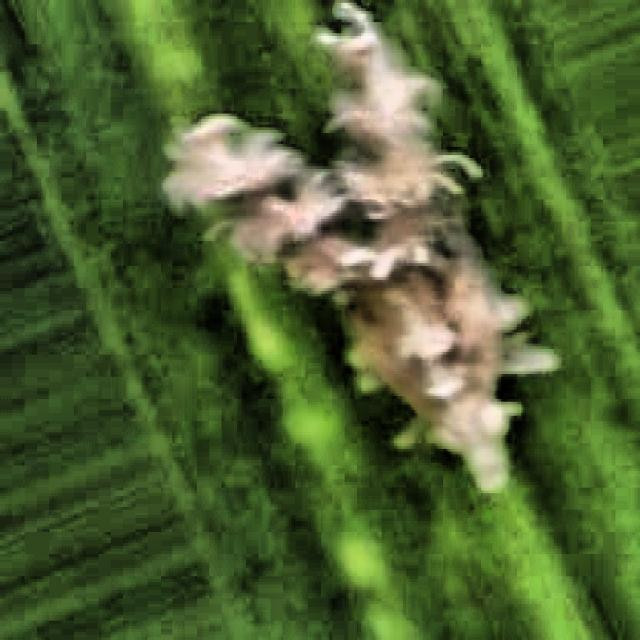Pyrilla-perpusilla: (123, 3, 592, 571)
